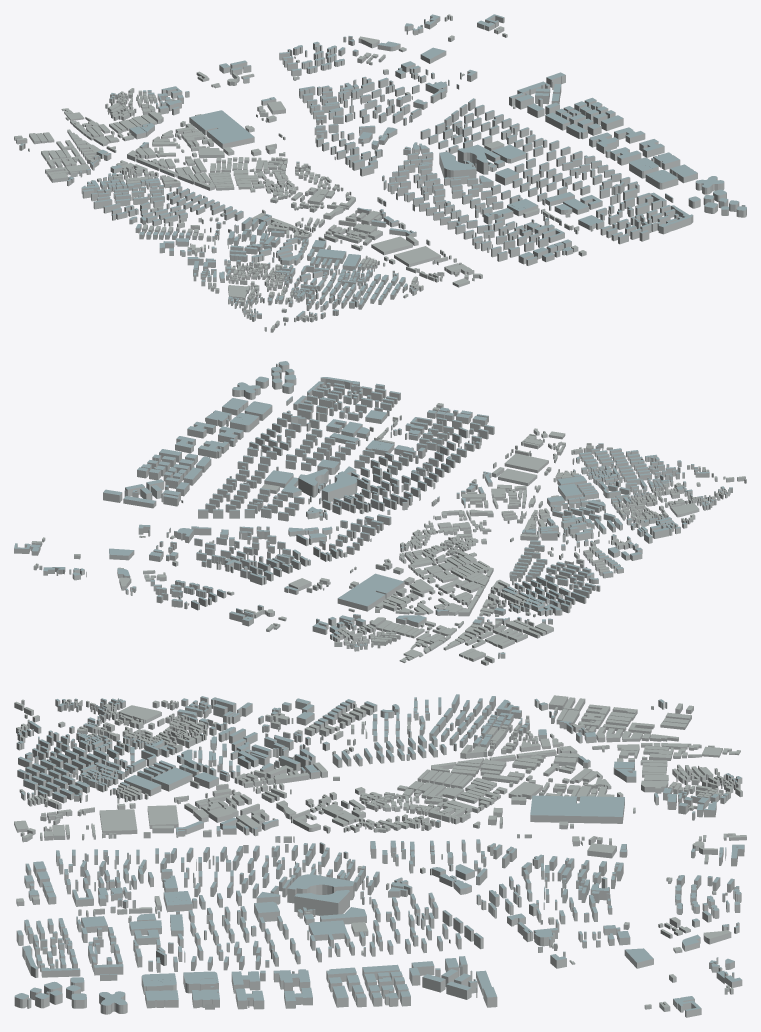
File: far.glb
3 renders of one model, top to bottom at view 1: azimuth 30°, elevation 25°; view 2: azimuth 150°, elevation 25°; view 3: azimuth 270°, elevation 25°, orthographic. The views are drawn at different scales.
Bounding box in the file's own units: 2182 × 50 × 2127.
